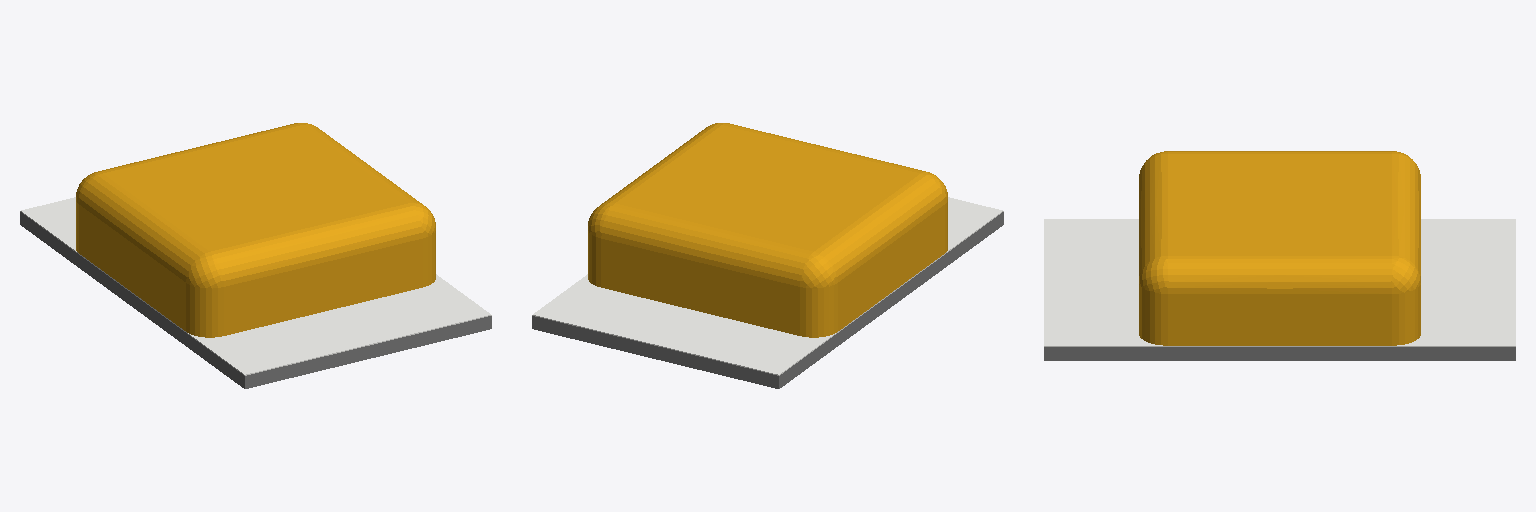
The robot description file, URDF, robot "aidboat":
<?xml version="1.0"?>
<robot name="aidboat">

<link name="base_link">
    <visual>
    <origin rpy="0 0 0" xyz="0 0 0"/>
    <geometry>
        <mesh filename="package://aidboat_description/meshes/Base.dae"/>
    </geometry>
    </visual>
</link>

<joint name="base_to_hull1" type="fixed">
    <parent link="base_link"/>
    <child link="hull1_link"/>
    <origin xyz="0.172098 0.447 0" rpy="0 0 0"/>
</joint>

<link name="hull1_link">
    <visual>
    <origin rpy="0 0 -0.0244346" xyz="0 0 0"/>
    <geometry>
        <mesh filename="package://aidboat_description/meshes/Hull3.dae"/>
    </geometry>
    </visual>
</link>

<joint name="base_to_hull2" type="fixed">
    <parent link="base_link"/>
    <child link="hull2_link"/>
    <origin xyz="0.172098 -0.447 0" rpy="0 0 0"/>
</joint>

<link name="hull2_link">
    <visual>
    <origin rpy="0 0 0.0244346" xyz="0 0 0"/>
    <geometry>
        <mesh filename="package://aidboat_description/meshes/Hull3.dae"/>
    </geometry>
    </visual>
</link>

</robot>

--- What the picture shows (computed from the rendered views, not written in the file) ---
Views: 3 orthographic renders of the robot side by side, from view 1: azimuth 30°, elevation 25°; view 2: azimuth 150°, elevation 25°; view 3: azimuth 270°, elevation 25°.
Model aidboat with 3 links and 2 joints (2 fixed), rooted at base_link, posed every joint at zero.
Links seen in each view (by area): view 1: base_link; view 2: base_link; view 3: base_link.
Link boxes in pixels (x1,y1,x2,y2): base_link: (20, 123, 491, 388); base_link: (532, 123, 1003, 388); base_link: (1044, 151, 1515, 360).
Bounding box of the posed robot: 0.73 × 1.15 × 0.2511 m (x, y, z).
1 mesh visuals loaded from 2 distinct referenced files (1 Collada DAE); not drawn: 2 (reference not matched to a file when rendering).